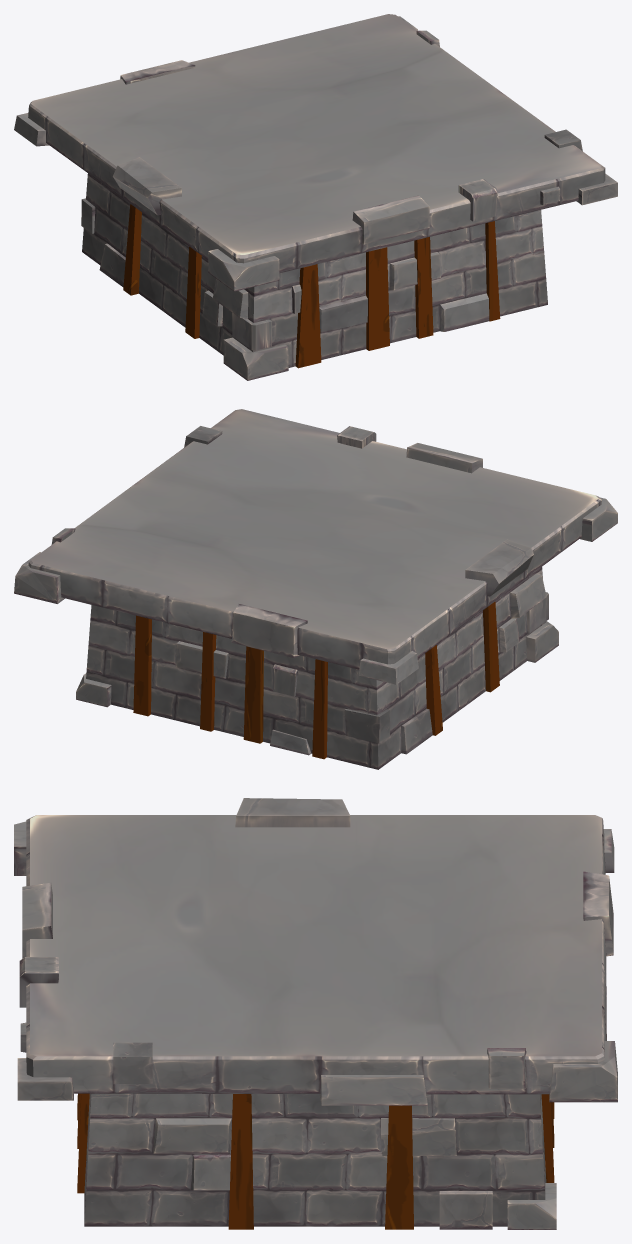
File: SM_BLD_base_v04_02.fbx
The picture shows the model from 3 angles, top to bottom: view 1: azimuth 30°, elevation 25°; view 2: azimuth 150°, elevation 25°; view 3: azimuth 270°, elevation 25°; orthographic projection. The views are drawn at different scales.
Visible parts, largest first — view 1: SM_BLD_base_v04_02; view 2: SM_BLD_base_v04_02; view 3: SM_BLD_base_v04_02.
Boxes of the visible parts, left/top/right/bottom form: SM_BLD_base_v04_02: left=14, top=14, right=617, bottom=380; SM_BLD_base_v04_02: left=14, top=409, right=617, bottom=769; SM_BLD_base_v04_02: left=14, top=798, right=617, bottom=1229.
Bounding box in the file's own units: 622 × 235 × 620.
